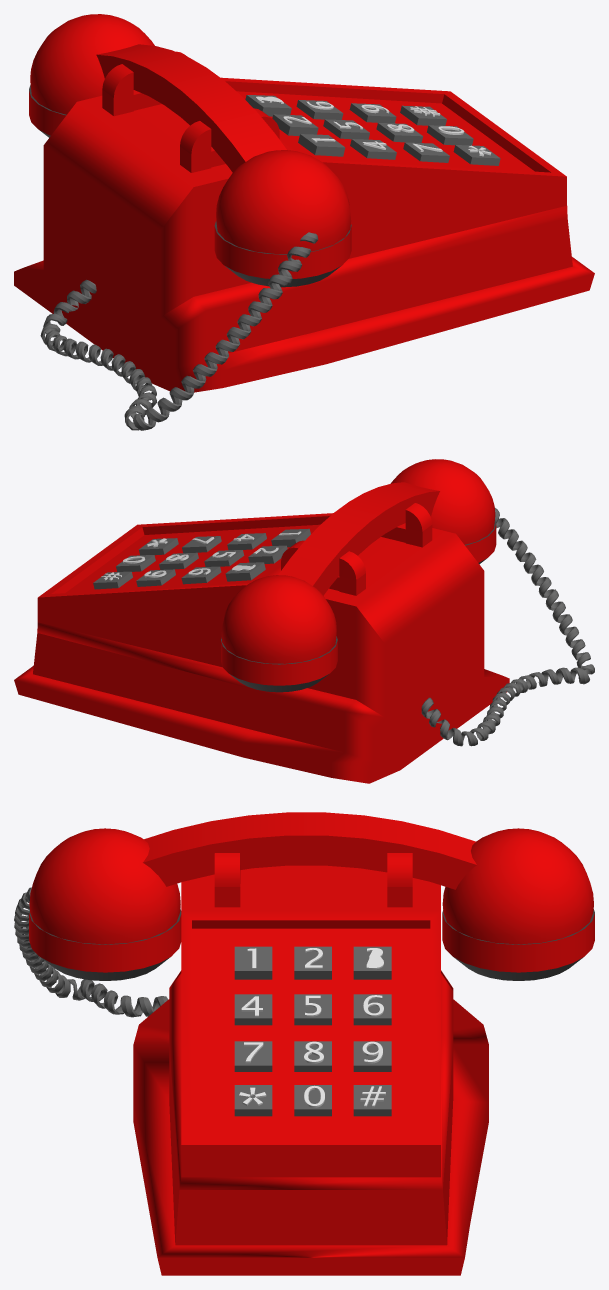
File: telephone NEW.fbx
The picture shows the model from 3 angles, top to bottom: view 1: azimuth 30°, elevation 25°; view 2: azimuth 150°, elevation 25°; view 3: azimuth 270°, elevation 25°; orthographic projection. The views are drawn at different scales.
Parts seen in each view (by area): view 1: polySurface43; view 2: polySurface43; view 3: polySurface43.
Boxes of the visible parts, <box> form: polySurface43: <box>14,14,594,430</box>; polySurface43: <box>14,459,594,783</box>; polySurface43: <box>14,812,594,1275</box>.
Bounding box in the file's own units: 12.96 × 6.02 × 11.66.
